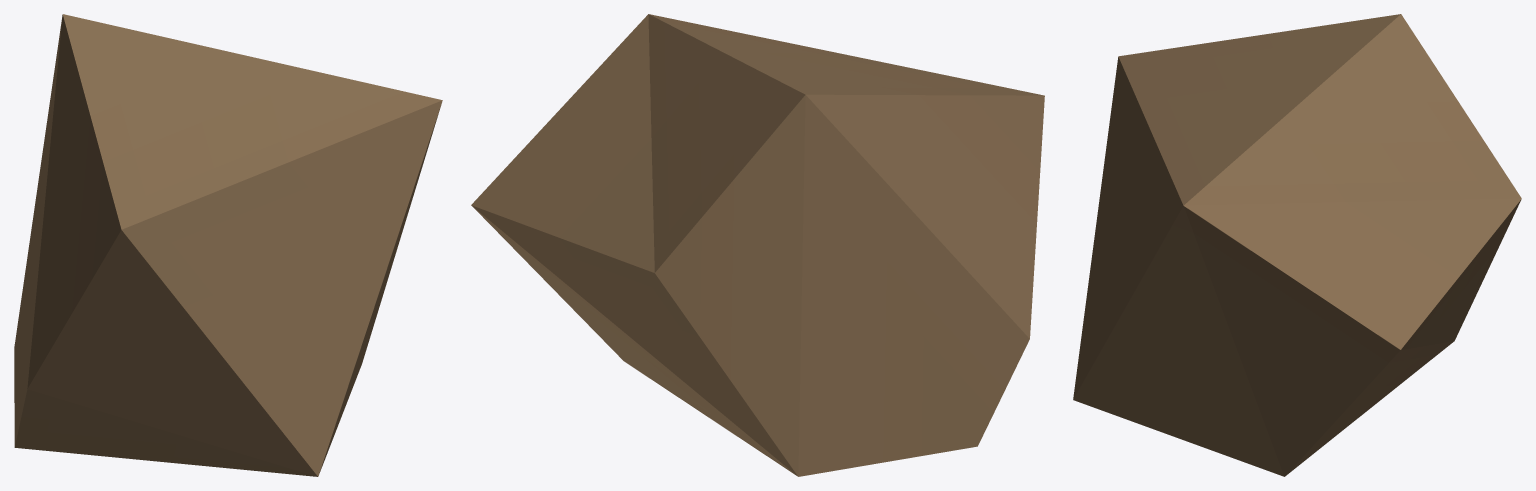
File: Rock-C02.fbx
3 renders of one model, left to right at view 1: azimuth 30°, elevation 25°; view 2: azimuth 150°, elevation 25°; view 3: azimuth 270°, elevation 25°, orthographic. The views are drawn at different scales.
Parts seen in each view (by area): view 1: Rock-C02; view 2: Rock-C02; view 3: Rock-C02.
Part boxes in pixels (left/top/right/bottom): Rock-C02: left=14, top=14, right=442, bottom=476; Rock-C02: left=471, top=14, right=1044, bottom=476; Rock-C02: left=1073, top=14, right=1521, bottom=476.
Bounding box in the file's own units: 33.82 × 25.79 × 29.91.
